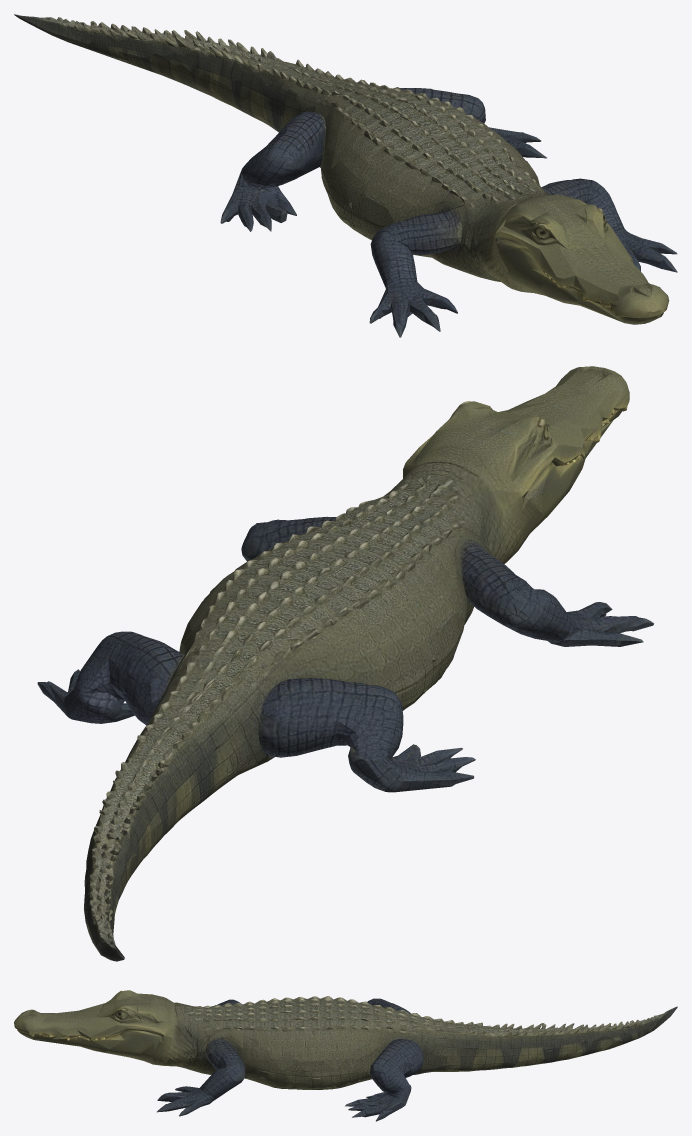
The model's file is crocodile.glb.
The picture shows the model from 3 angles, top to bottom: view 1: azimuth 30°, elevation 25°; view 2: azimuth 150°, elevation 25°; view 3: azimuth 270°, elevation 25°; orthographic projection. The views are drawn at different scales.
Size of the model in its own units: 0.7083 by 0.2358 by 1.9.
Materials: 1 (1 with a texture image).
